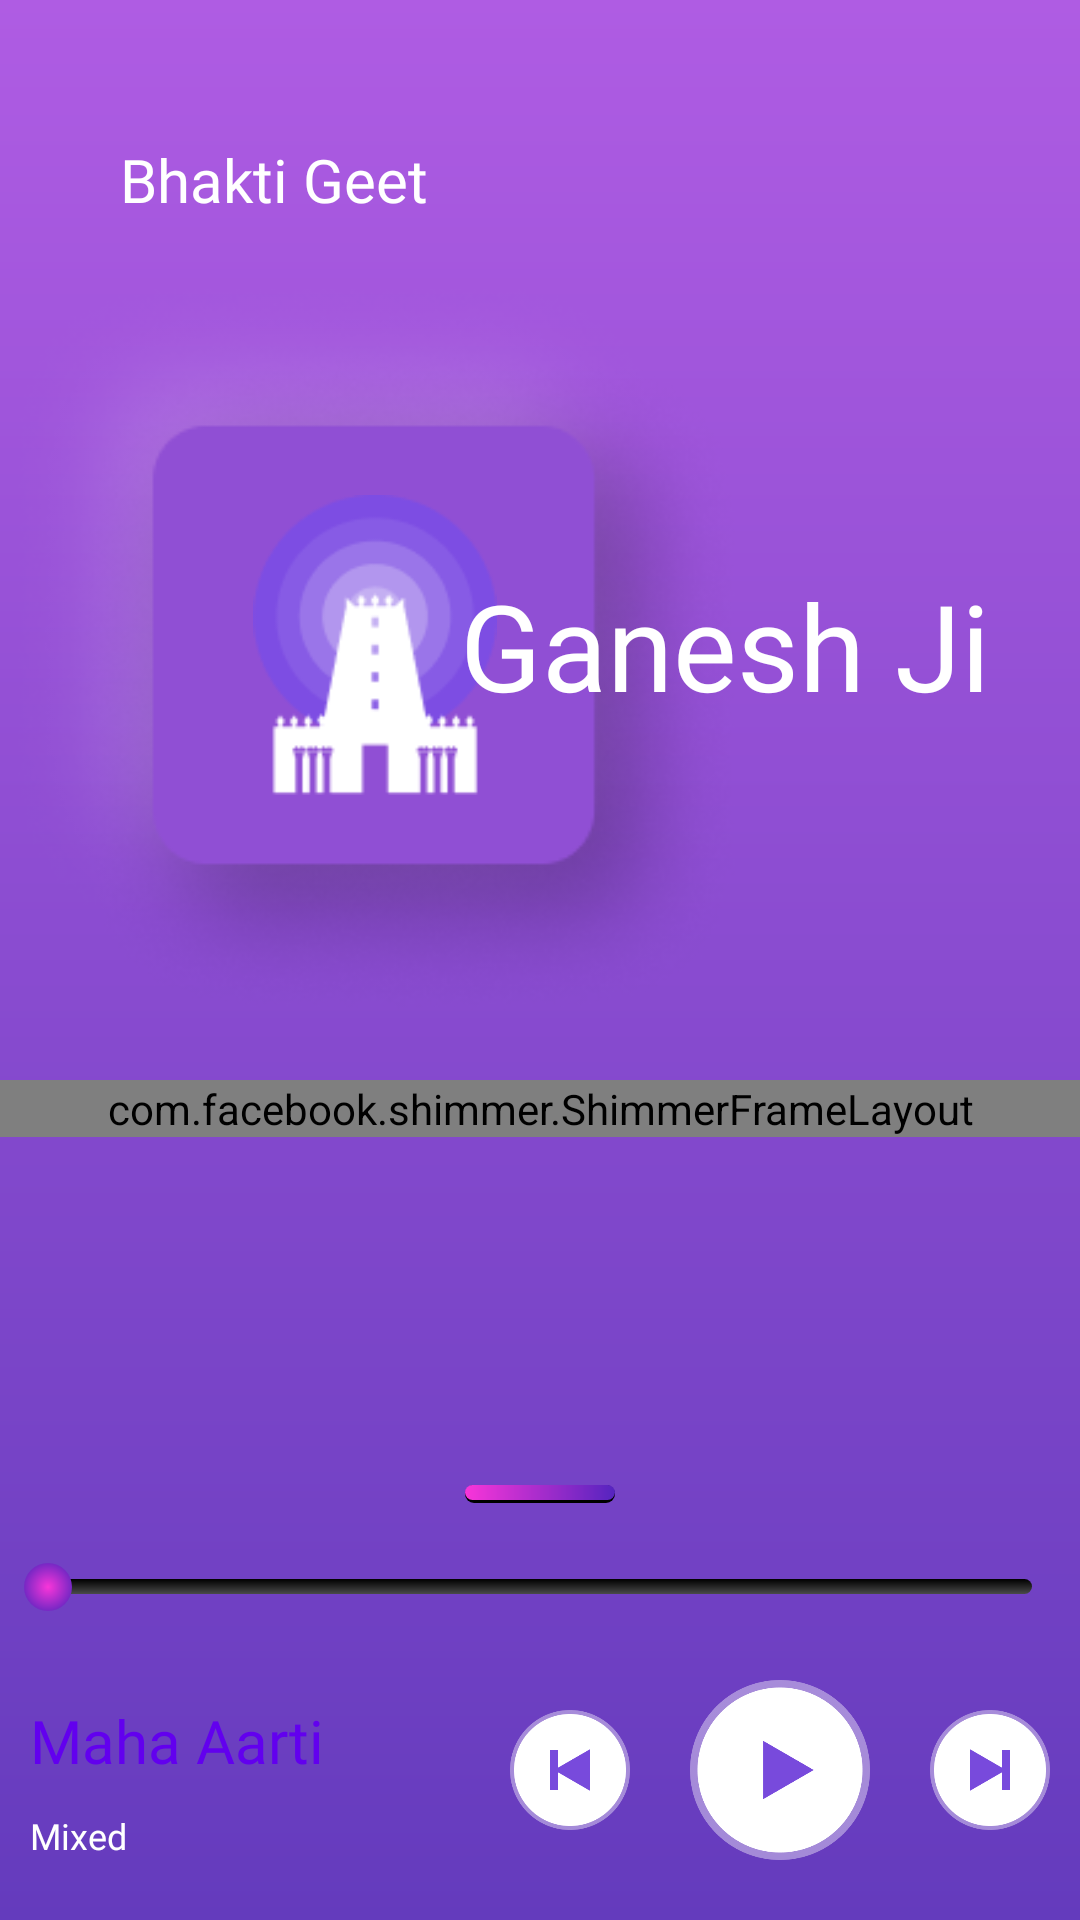

Where to tap for icons on this 1080w x 1920h app screen, as point (x, y):
backwards: point (570, 1770)
forwards: point (990, 1770)
mandir: point (375, 667)
play: point (780, 1770)
